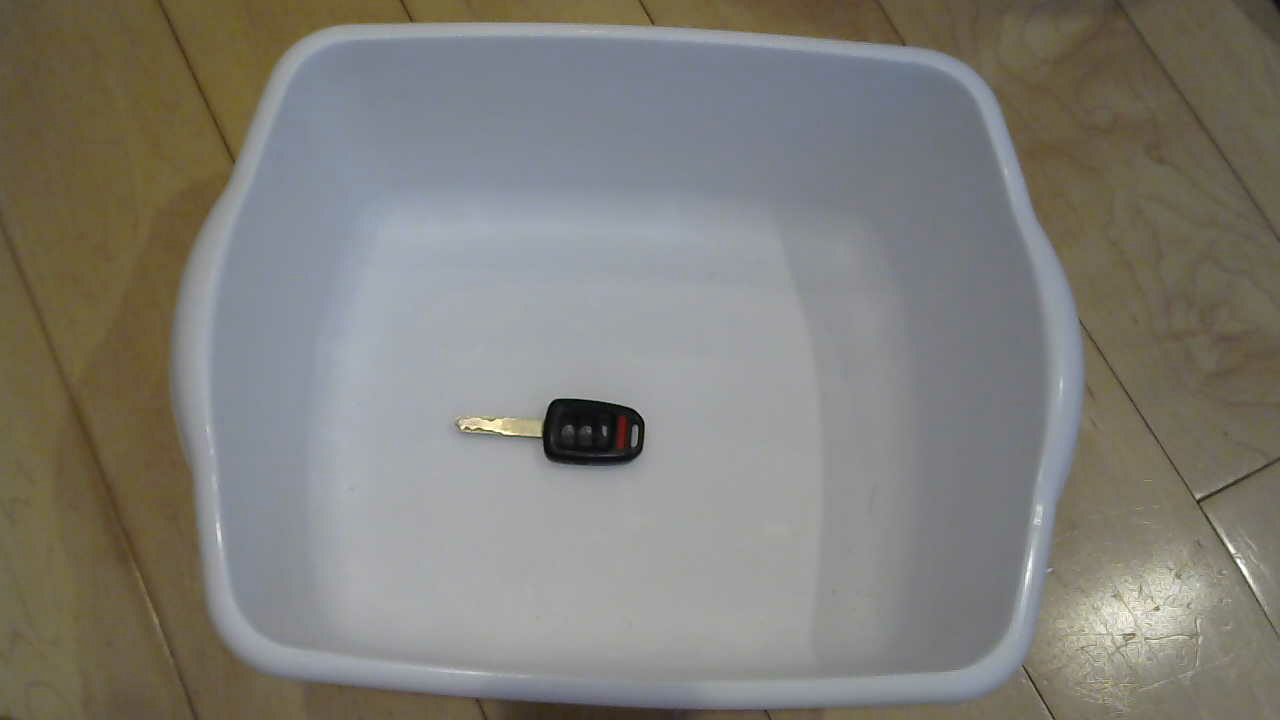key: (452, 390, 661, 490)
